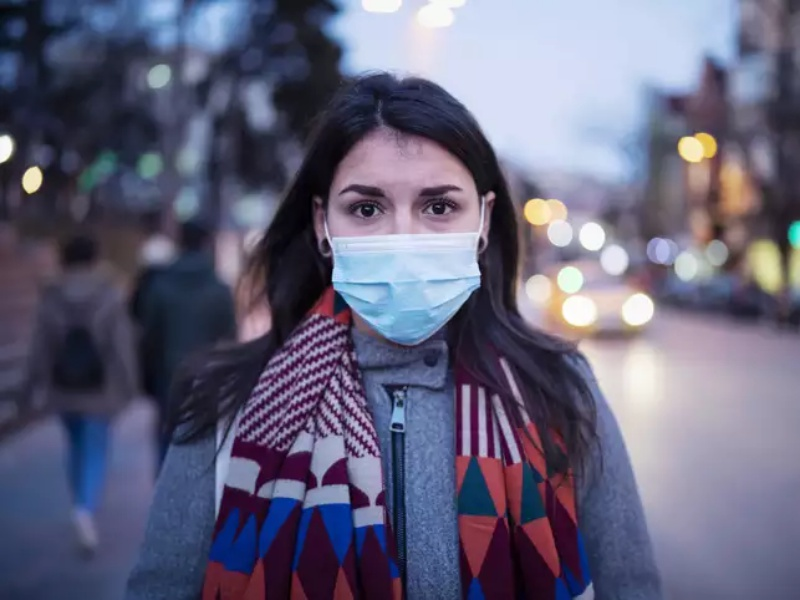ManaoArotava: (307, 124, 504, 361)
